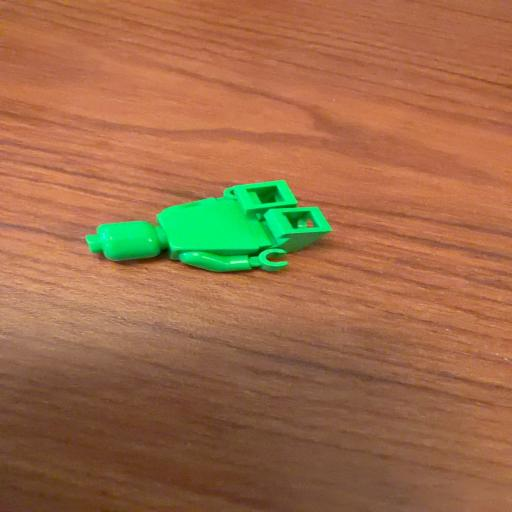UnoQ-minifig-detector: (85, 179, 332, 273)
